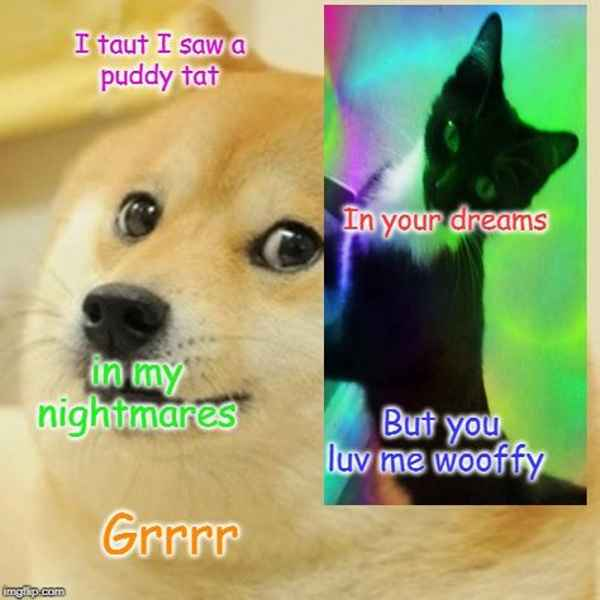doge: (41, 40, 333, 443)
